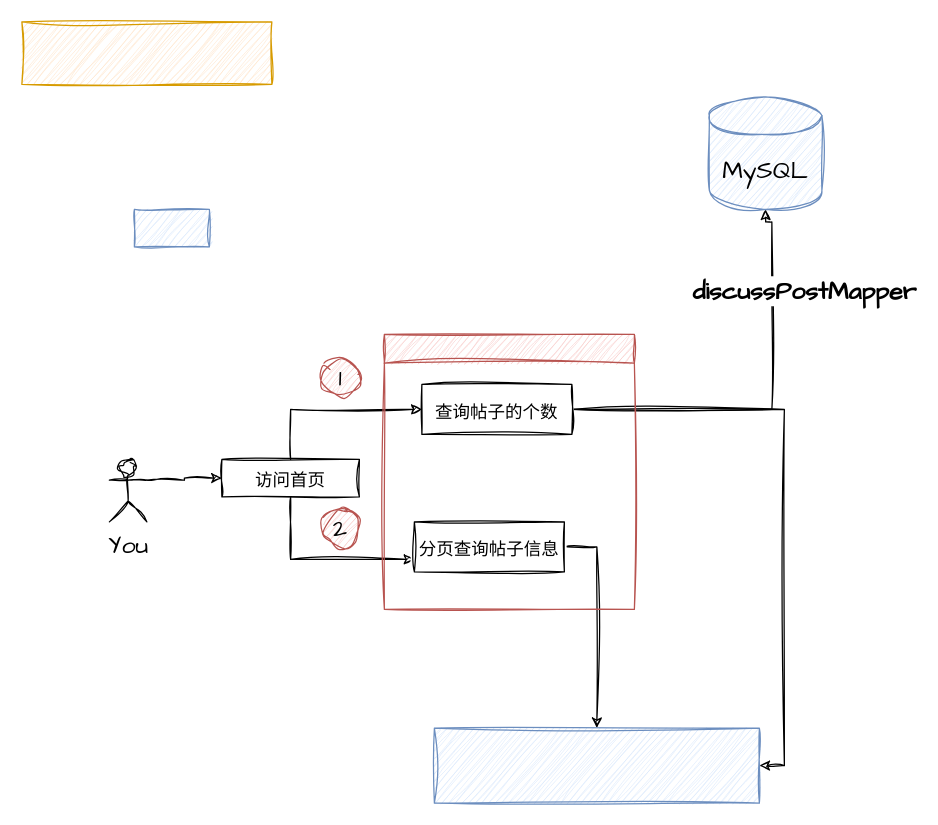
The diagram is 938 pixels wide and 825 high, and some of its shapes have lost their labels. Each missing label, with the box of its shape:
@HealUP: (133, 208, 209, 247)
caffeine ：帖子个数本地缓存 热帖列表本地缓存: (433, 727, 759, 803)
DiscussPostService: (383, 333, 634, 609)
HomeCOntroller: (21, 21, 272, 84)
